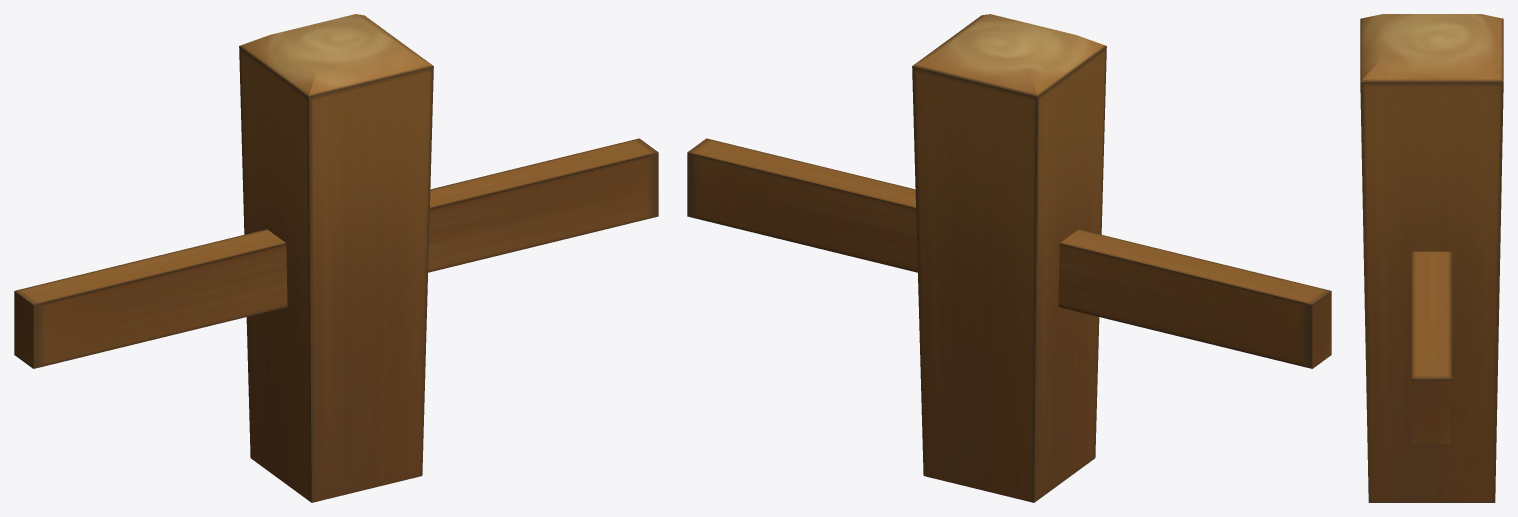
The model's file is Fence 1.fbx.
3 renders of one model, left to right at view 1: azimuth 30°, elevation 25°; view 2: azimuth 150°, elevation 25°; view 3: azimuth 270°, elevation 25°, orthographic. The views are drawn at different scales.
Visible parts, largest first — view 1: Fence_Pillar, Fence_Plank; view 2: Fence_Pillar, Fence_Plank; view 3: Fence_Pillar, Fence_Plank.
Part boxes in pixels (bbox=[...]): Fence_Pillar: bbox=[239, 14, 433, 502]; Fence_Plank: bbox=[14, 138, 658, 368]; Fence_Pillar: bbox=[912, 14, 1106, 502]; Fence_Plank: bbox=[687, 138, 1331, 368]; Fence_Pillar: bbox=[1360, 14, 1503, 502]; Fence_Plank: bbox=[1412, 251, 1451, 445].
Bounding box in the file's own units: 3.74 × 2.43 × 0.7193.
1 material, 1 textured.
